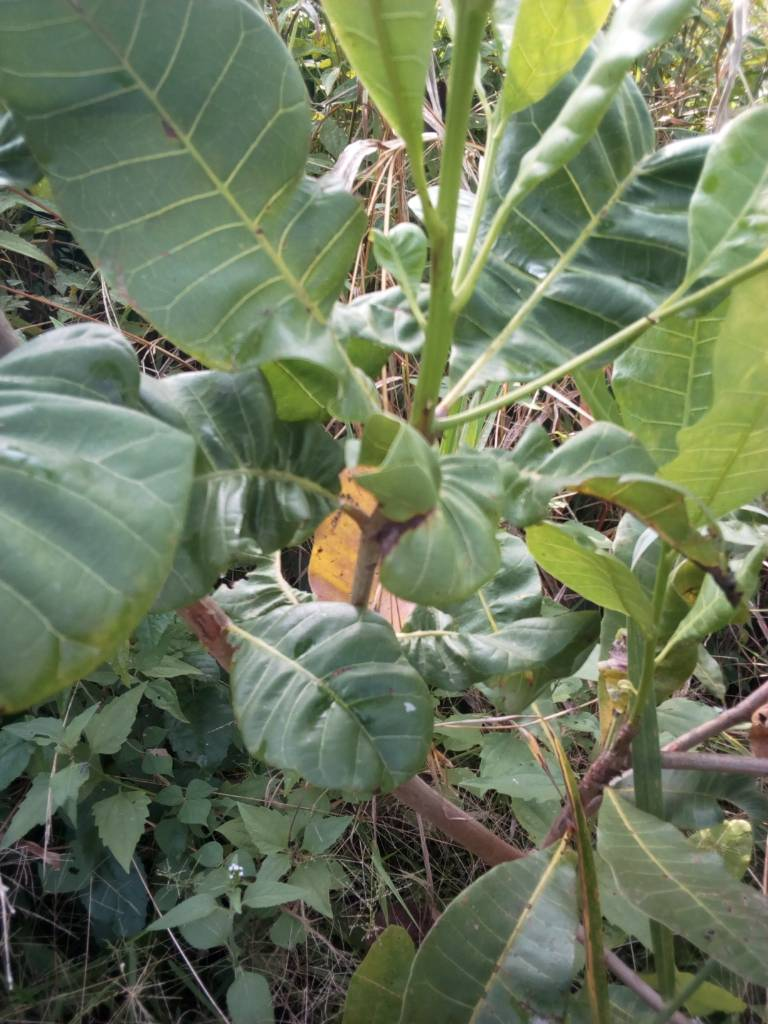Helopeltis anacardii: (133, 355, 350, 572), (233, 602, 427, 796)
